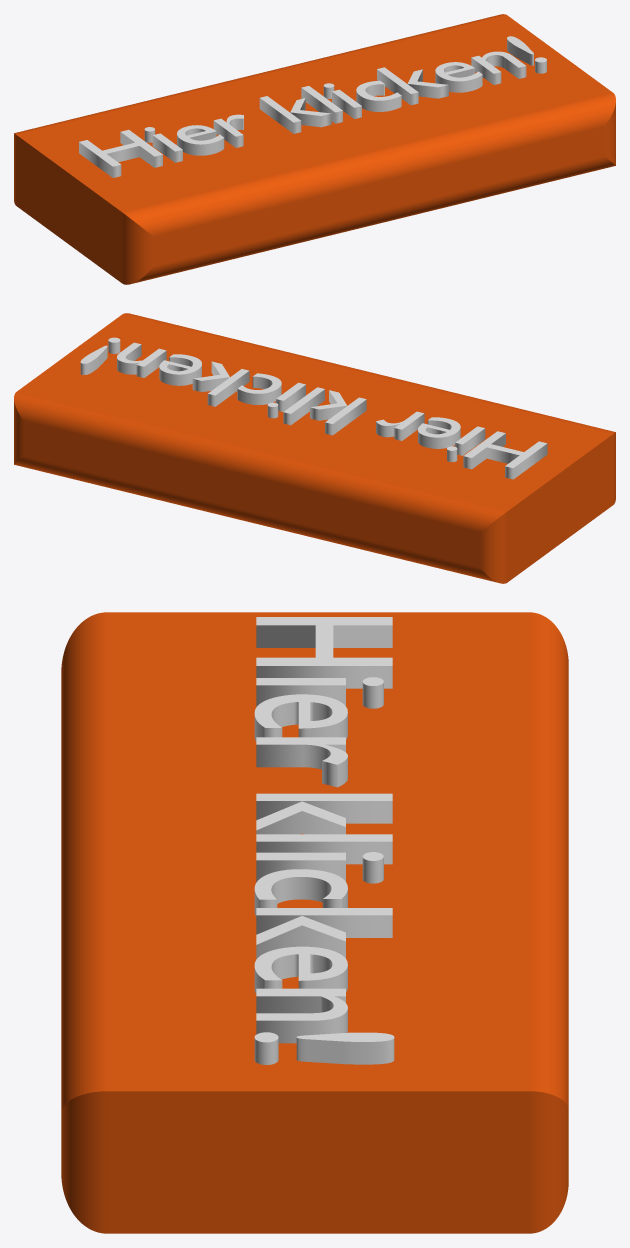
File: HierKlickenButtonOrange.glb
3 renders of one model, top to bottom at view 1: azimuth 30°, elevation 25°; view 2: azimuth 150°, elevation 25°; view 3: azimuth 270°, elevation 25°, orthographic. The views are drawn at different scales.
Visible parts, largest first — view 1: Cube, Text; view 2: Cube, Text; view 3: Cube, Text.
Boxes of the visible parts, x1=… form: Cube: x1=14, y1=14, x2=615, y2=284; Text: x1=79, y1=36, x2=546, y2=177; Cube: x1=14, y1=313, x2=615, y2=583; Text: x1=80, y1=337, x2=547, y2=479; Cube: x1=61, y1=612, x2=568, y2=1233; Text: x1=254, y1=617, x2=394, y2=1064.
Bounding box in the file's own units: 2 × 0.3213 × 0.8956.
